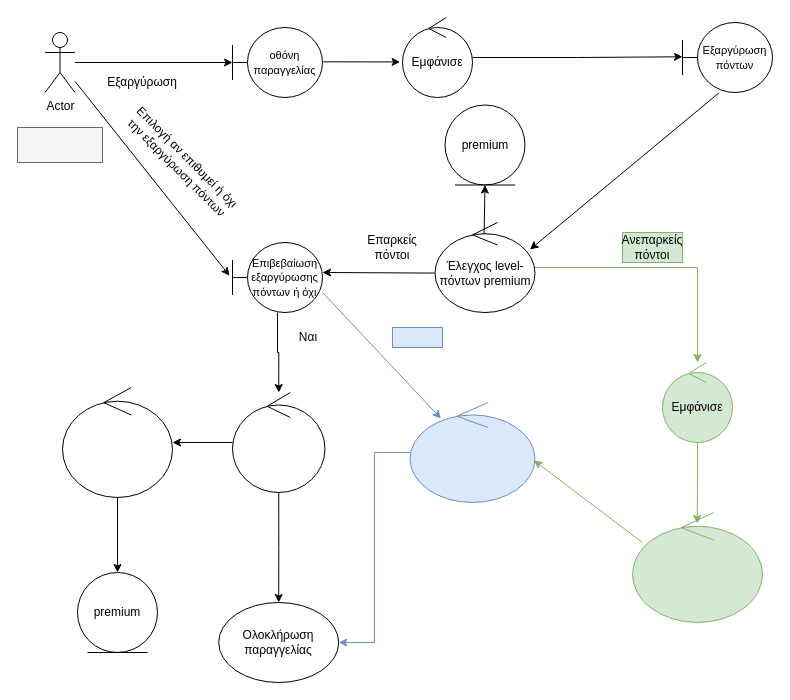
Some shapes in this 790 by 700 pixel diagram are drawn without their labels. The centre of each missing label's shape, as x and y in pixels:
Mήνυμα ανεπαρκείς πόντοι δεν επαρκούν για εξαργύρωση: [697,567]
Ανανέωνει τους πόντους μετά την εξαργύρωση πόντνων του χρήστη: [117,442]
Πελάτης Premium: [59,144]
Υπολογίζει τη παραγγελία χωρίς την εξαργύρωση πόντων: [472,452]
Υπολογίζει την τελική τιμή με έκπτωση: [278,442]
Όχι: [417,337]
